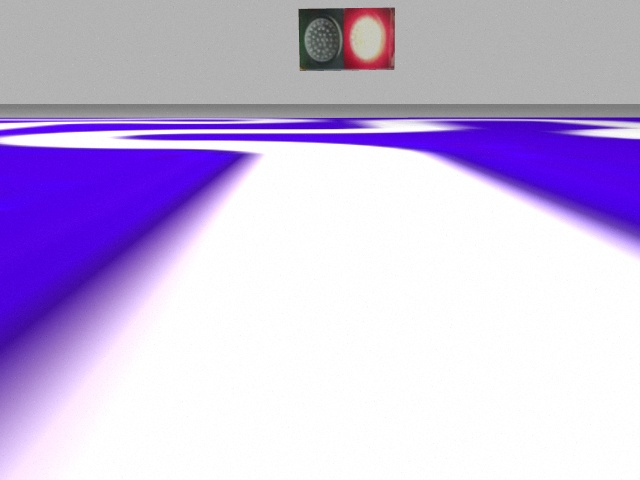red: (345, 9, 395, 69)
